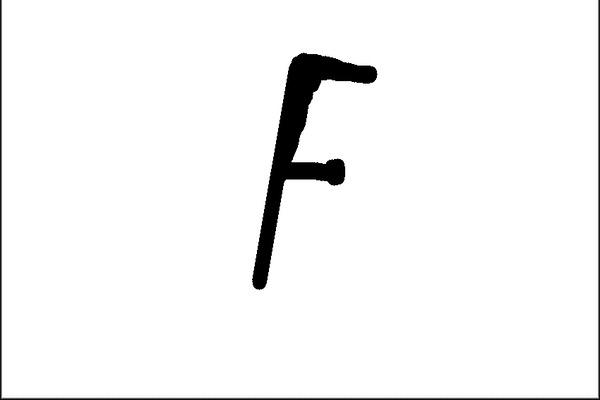F: (245, 48, 380, 292)
